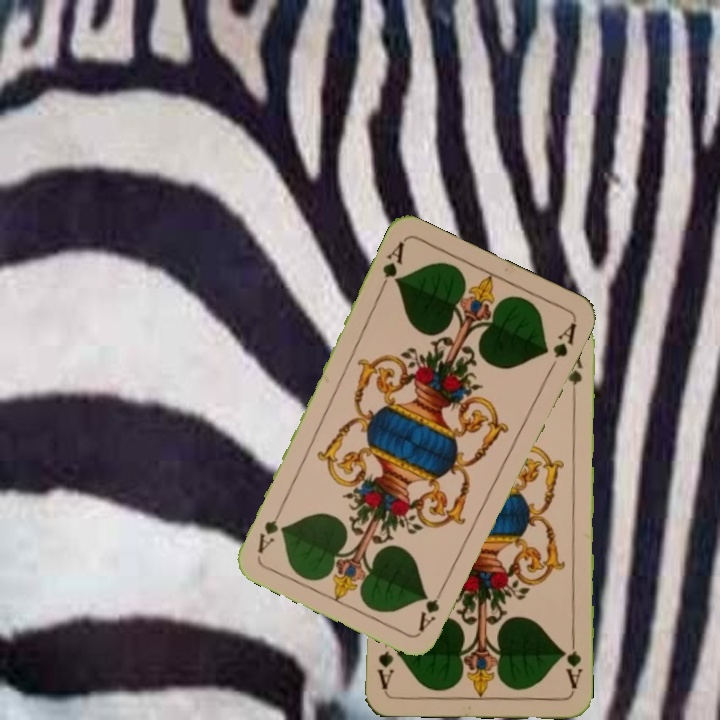GA: (414, 579, 449, 634), (376, 237, 407, 294), (558, 634, 585, 691)
